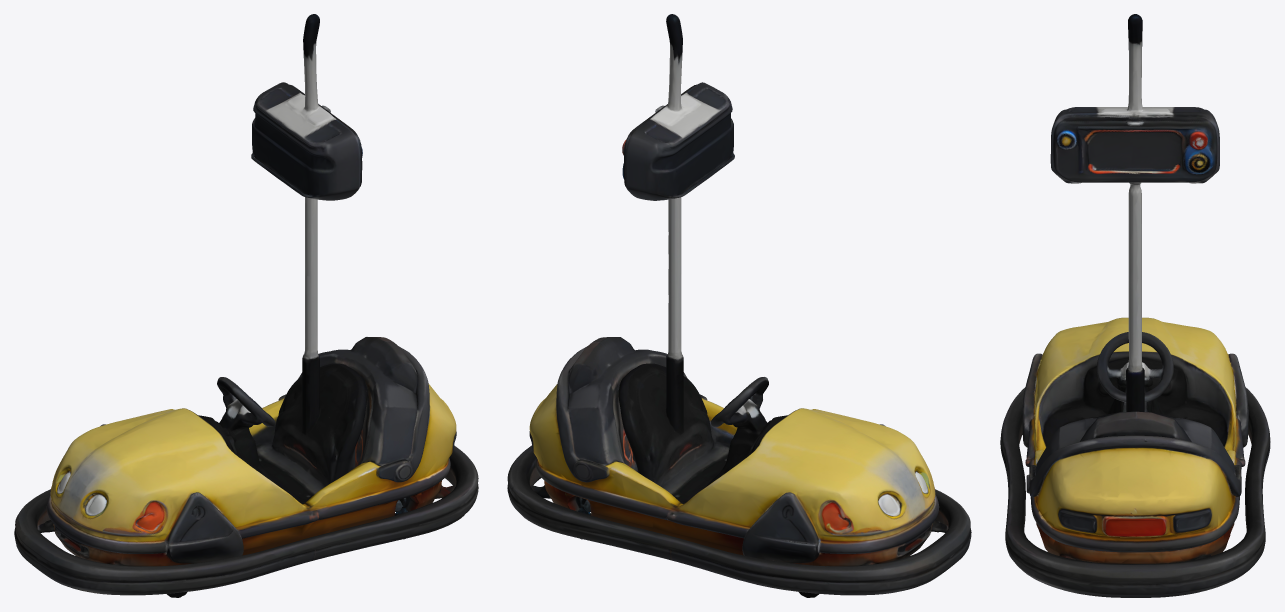
The model's file is building-bumper-cars.glb.
3 views of the same model, side by side, from view 1: azimuth 30°, elevation 25°; view 2: azimuth 150°, elevation 25°; view 3: azimuth 270°, elevation 25° (orthographic). The views are drawn at different scales.
Visible parts, largest first — view 1: tripo_node_c6c79c1b-b7ad-4846-aa90-182a35be3444; view 2: tripo_node_c6c79c1b-b7ad-4846-aa90-182a35be3444; view 3: tripo_node_c6c79c1b-b7ad-4846-aa90-182a35be3444.
Boxes of the visible parts, left/top/right/bottom form: tripo_node_c6c79c1b-b7ad-4846-aa90-182a35be3444: left=14, top=14, right=478, bottom=597; tripo_node_c6c79c1b-b7ad-4846-aa90-182a35be3444: left=507, top=14, right=971, bottom=597; tripo_node_c6c79c1b-b7ad-4846-aa90-182a35be3444: left=1000, top=14, right=1270, bottom=597.
Size of the model in its own units: 4.31 by 5 by 2.29.
1 material, 1 textured.
